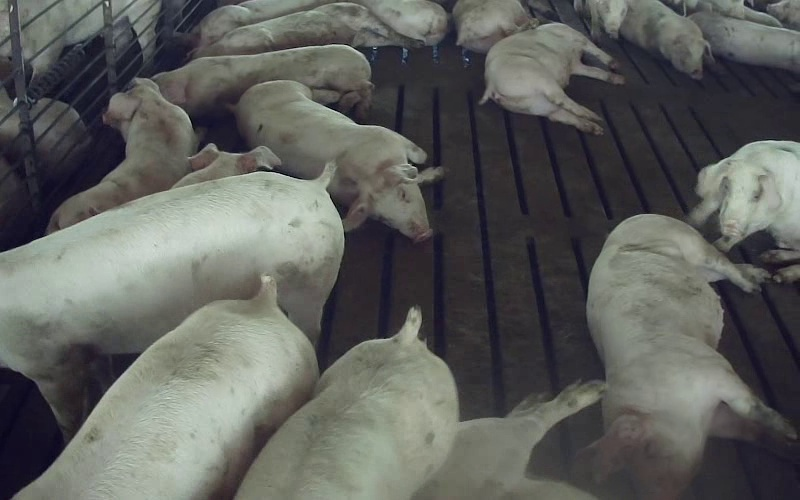pig: (14, 276, 317, 499), (579, 215, 796, 499), (237, 308, 457, 499), (47, 78, 195, 233), (153, 45, 373, 118), (480, 24, 623, 134), (192, 3, 422, 57), (619, 0, 713, 79), (689, 11, 799, 73), (193, 0, 340, 46), (453, 0, 538, 52), (352, 0, 447, 45)
